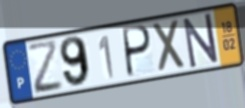1: (98, 33, 115, 80)
9: (59, 34, 93, 90)
N: (181, 11, 220, 71)
P: (122, 25, 154, 81)
X: (151, 17, 188, 76)
Z: (25, 37, 66, 97)
